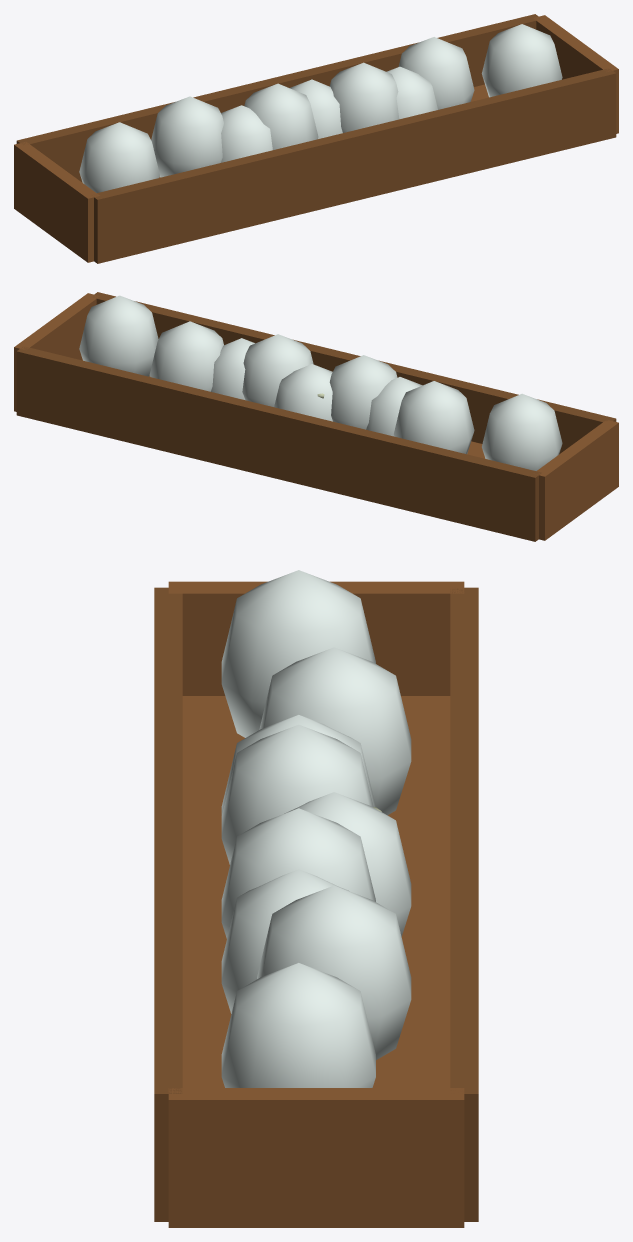
Rendered from Ranch_DuckEgg.fbx.
3 renders of one model, top to bottom at view 1: azimuth 30°, elevation 25°; view 2: azimuth 150°, elevation 25°; view 3: azimuth 270°, elevation 25°, orthographic. The views are drawn at different scales.
Parts seen in each view (by area): view 1: Ranch_DuckEgg__Stack, Ranch_DuckEgg; view 2: Ranch_DuckEgg__Stack, Ranch_DuckEgg; view 3: Ranch_DuckEgg__Stack, Ranch_DuckEgg.
Boxes of the visible parts, box(x1,y1,x2,y2) form: Ranch_DuckEgg__Stack: box(14, 14, 618, 263); Ranch_DuckEgg: box(221, 66, 437, 162); Ranch_DuckEgg__Stack: box(14, 292, 618, 541); Ranch_DuckEgg: box(211, 338, 422, 436); Ranch_DuckEgg__Stack: box(154, 570, 478, 1227); Ranch_DuckEgg: box(221, 715, 411, 1013).
Size of the model in its own units: 0.347 by 0.0632 by 0.0917.
